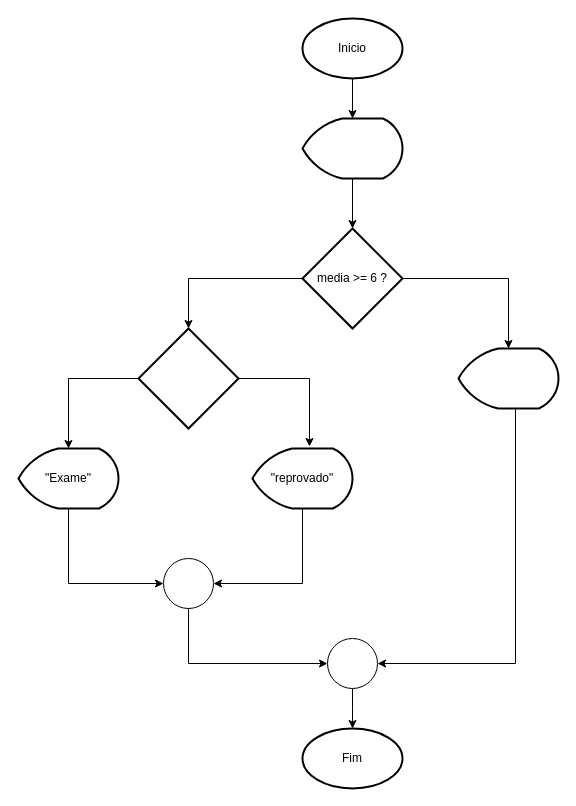
Some shapes in this 576 by 806 pixel diagram are drawn without their labels. The shapes that lost their labels are listed below. From the top down, each one's centre as x and y in pixels, then its label:
(352,148): "digite a média"
(188,378): "media <= 3
(508,378): "Aprovado"
